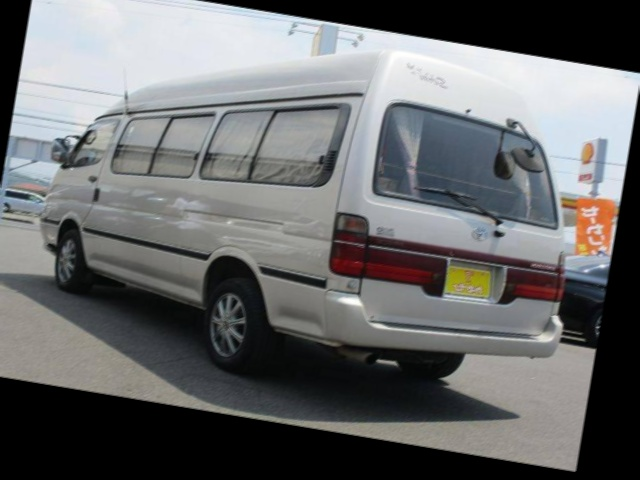van: (13, 0, 601, 410)
